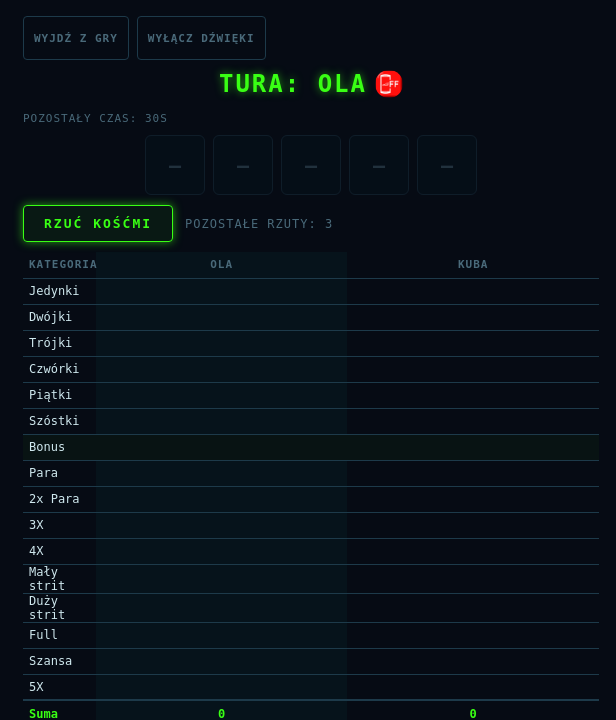
OnlineGameScreen › shows "Wyłącz dźwięki" and mutes sounds when clicked, while sounds are unmuted
This screenshot has width=616, height=720.
Click the button "Wyłącz dźwięki".
click(201, 38)  # box left=137, top=16, right=266, bottom=60
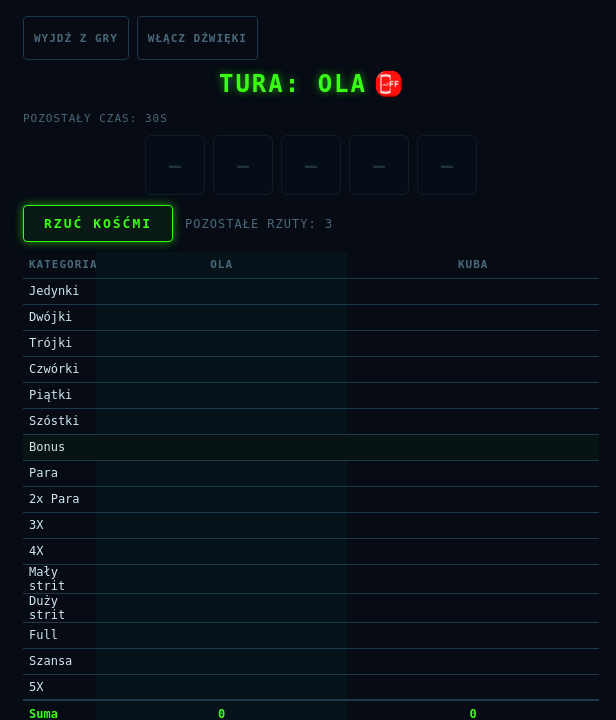
Expected: the button "Włącz dźwięki" is shown, left=137, top=16, right=258, bottom=60
